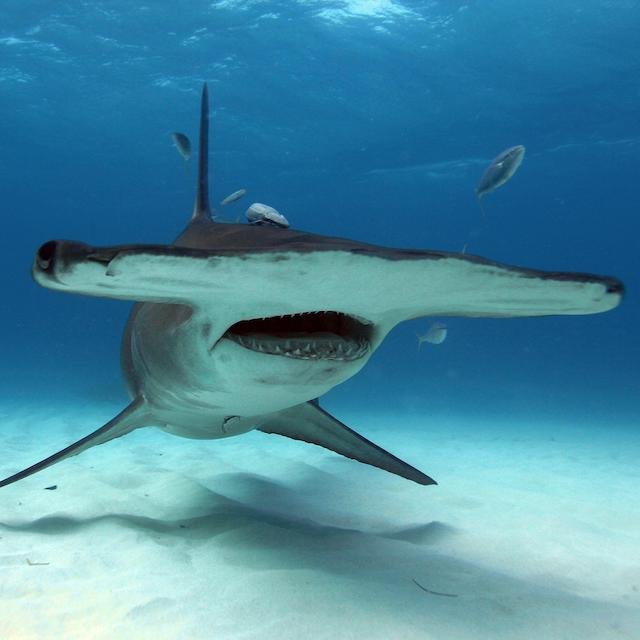hammerhead: (1, 212, 624, 494)
